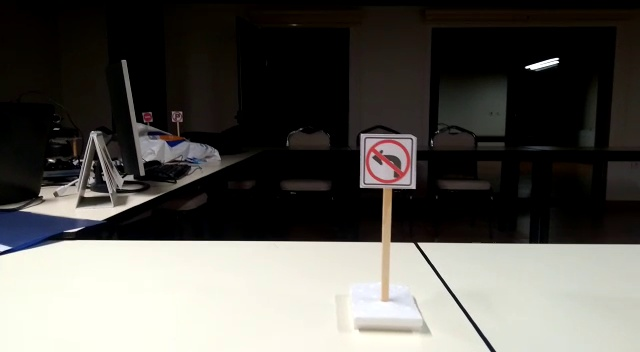sola_donulmez: (361, 139, 410, 183)
